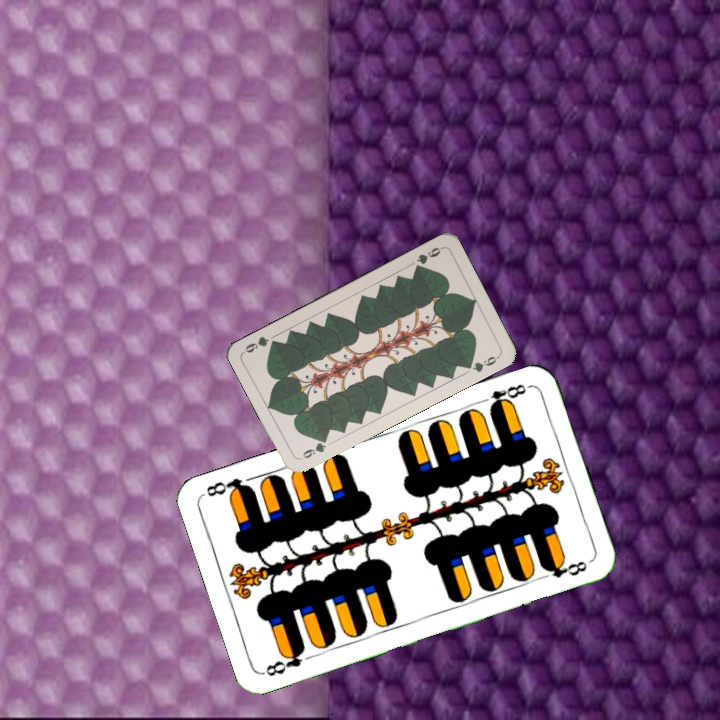E8: (475, 380, 533, 413), (260, 643, 308, 679)
G9: (411, 243, 445, 273), (296, 434, 330, 462)
